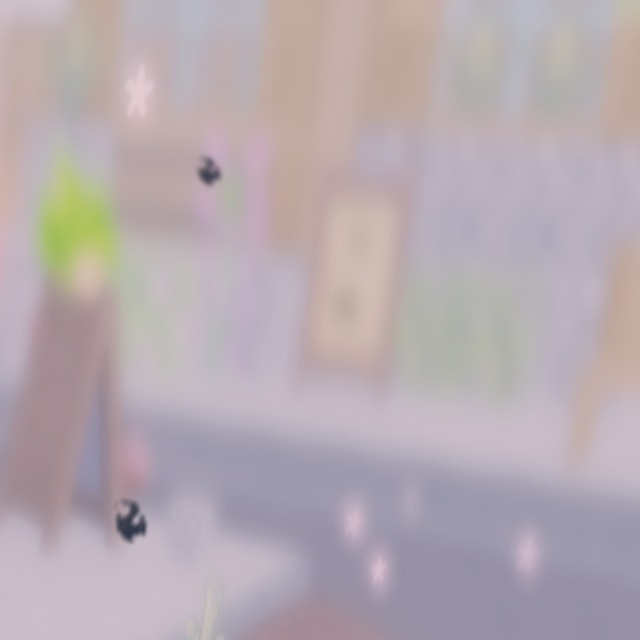urso_preto: (106, 491, 154, 552), (190, 150, 227, 194)
